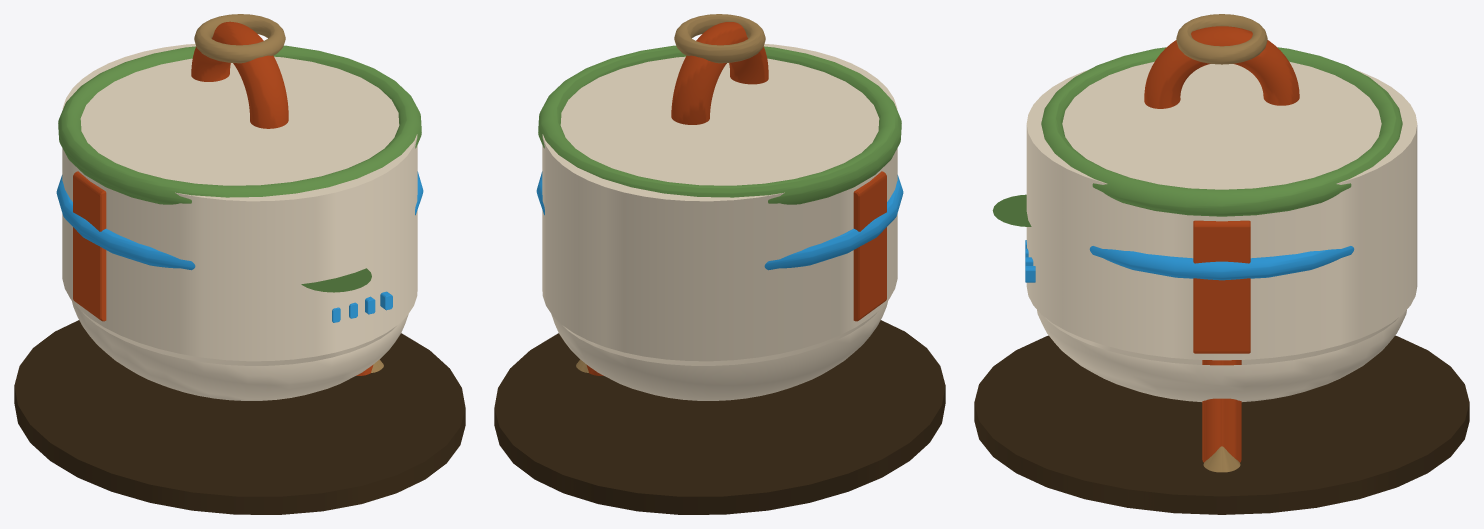
File: 0751_先秦图鉴_青铜簋.glb
3 views of the same model, side by side, from view 1: azimuth 30°, elevation 25°; view 2: azimuth 150°, elevation 25°; view 3: azimuth 270°, elevation 25° (orthographic).
Parts seen in each view (by area): view 1: card_0751; view 2: card_0751; view 3: card_0751.
Boxes of the visible parts, <box> form: card_0751: <box>14,14,465,514</box>; card_0751: <box>494,14,945,514</box>; card_0751: <box>974,14,1469,514</box>.
Size of the model in its own units: 0.9861 by 1 by 1.1.
